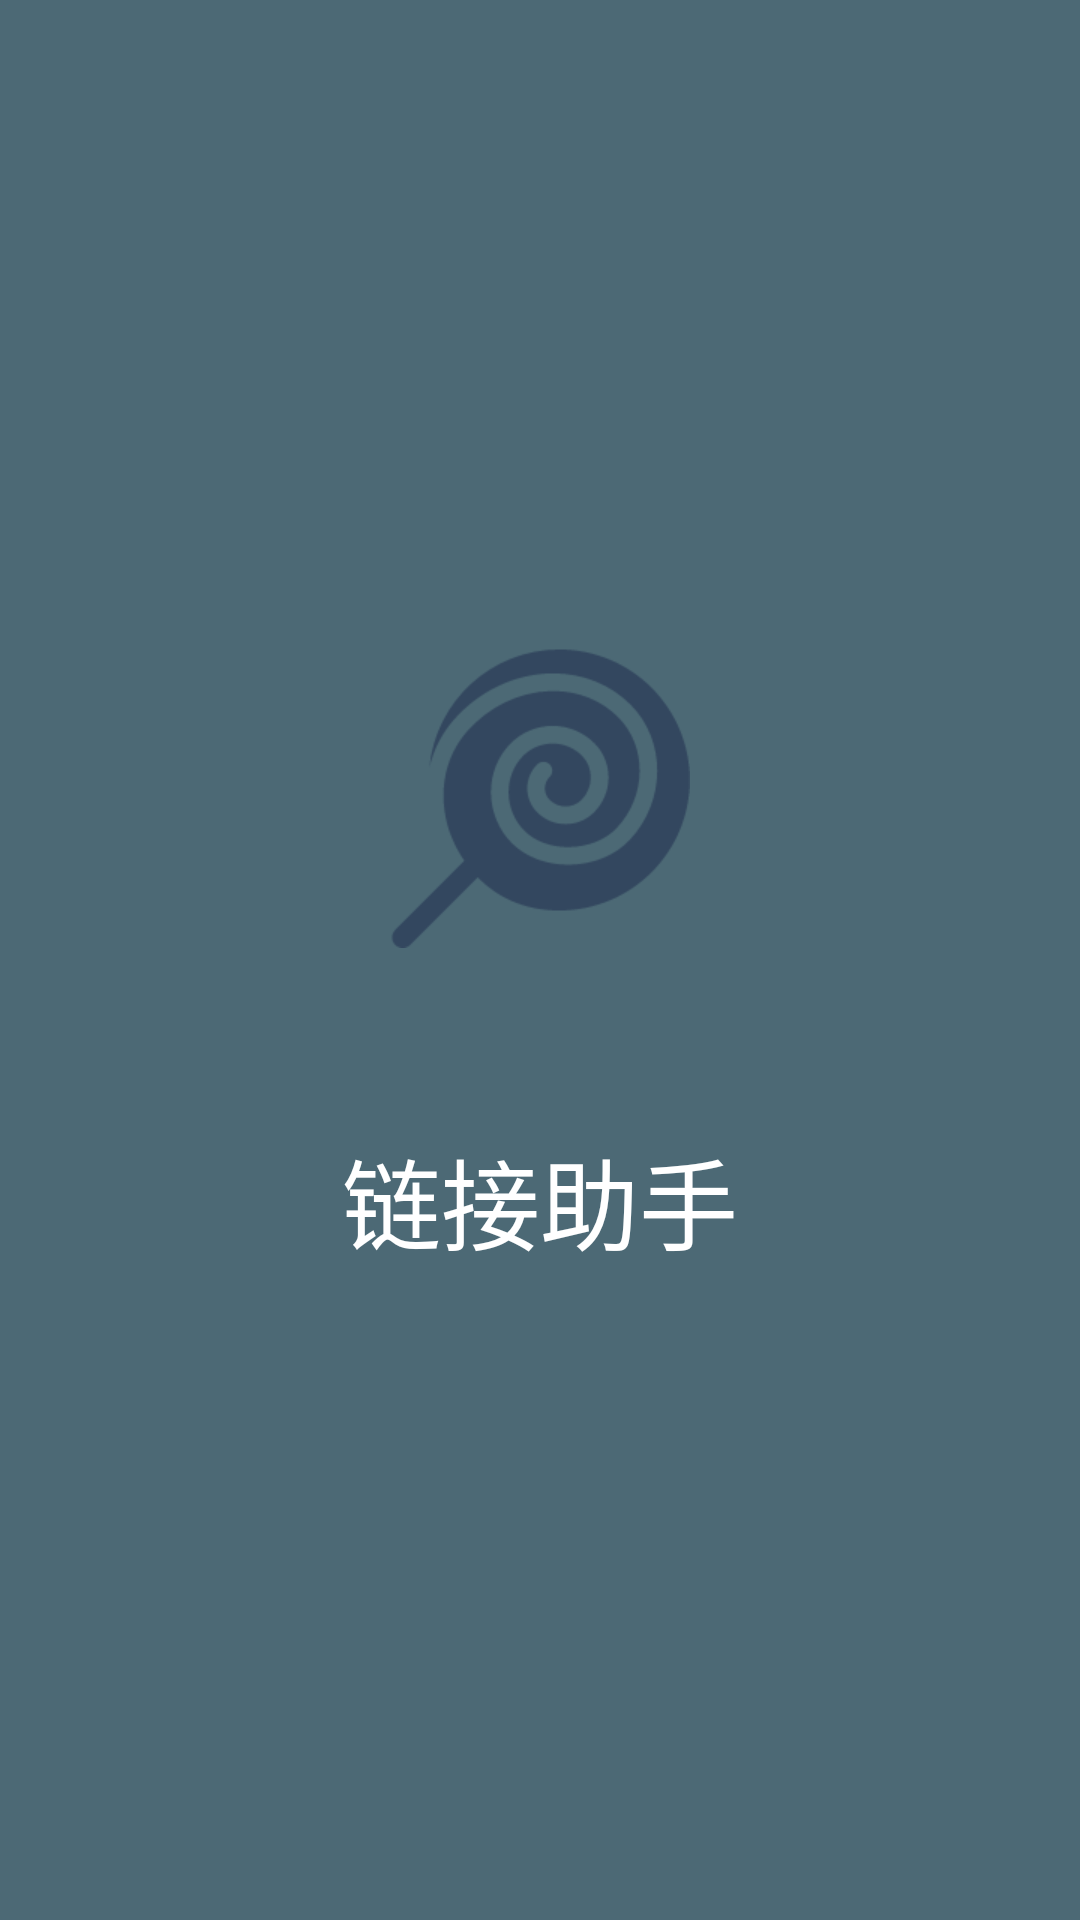

Screen size 1080 × 1920. Icon name, then its center in pixels as point (x, y):
lollipop: point (541, 799)
